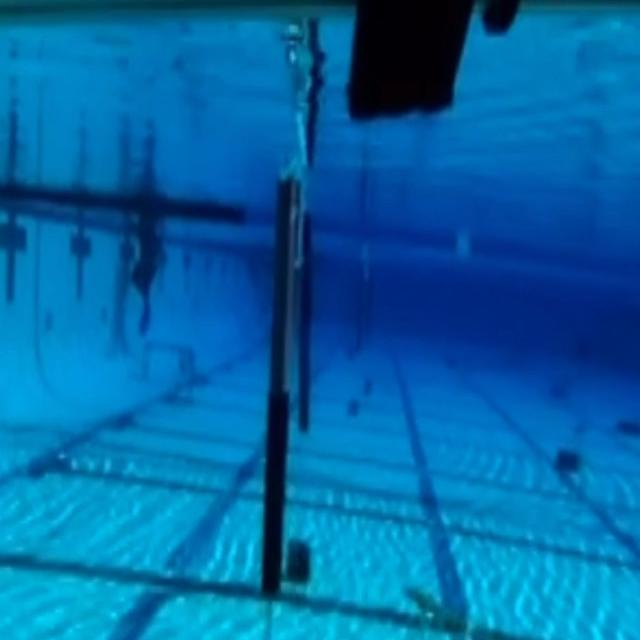Gate: (236, 158, 347, 614)
